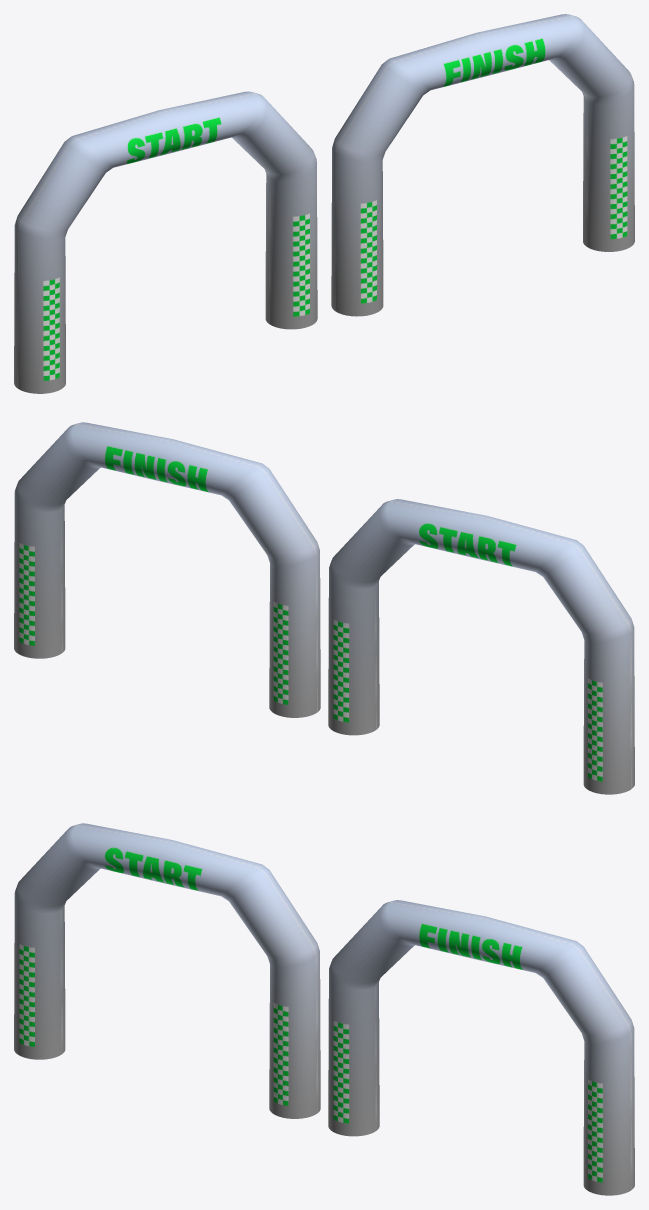
File: Start n finish point.fbx
3 views of the same model, one above another, from view 1: azimuth 30°, elevation 25°; view 2: azimuth 150°, elevation 25°; view 3: azimuth 330°, elevation 25° (orthographic).
Visible parts, largest first — view 1: Cylinder.002, Cylinder.001; view 2: Cylinder.002, Cylinder.001; view 3: Cylinder.001, Cylinder.002.
Boxes of the visible parts, left/top/right/bottom form: Cylinder.002: left=14, top=91, right=317, bottom=393; Cylinder.001: left=331, top=14, right=634, bottom=316; Cylinder.002: left=328, top=499, right=634, bottom=794; Cylinder.001: left=14, top=422, right=320, bottom=717; Cylinder.001: left=328, top=900, right=634, bottom=1195; Cylinder.002: left=14, top=823, right=320, bottom=1118.
Bounding box in the file's own units: 271 × 100 × 22.24.
2 materials, 2 textured.
